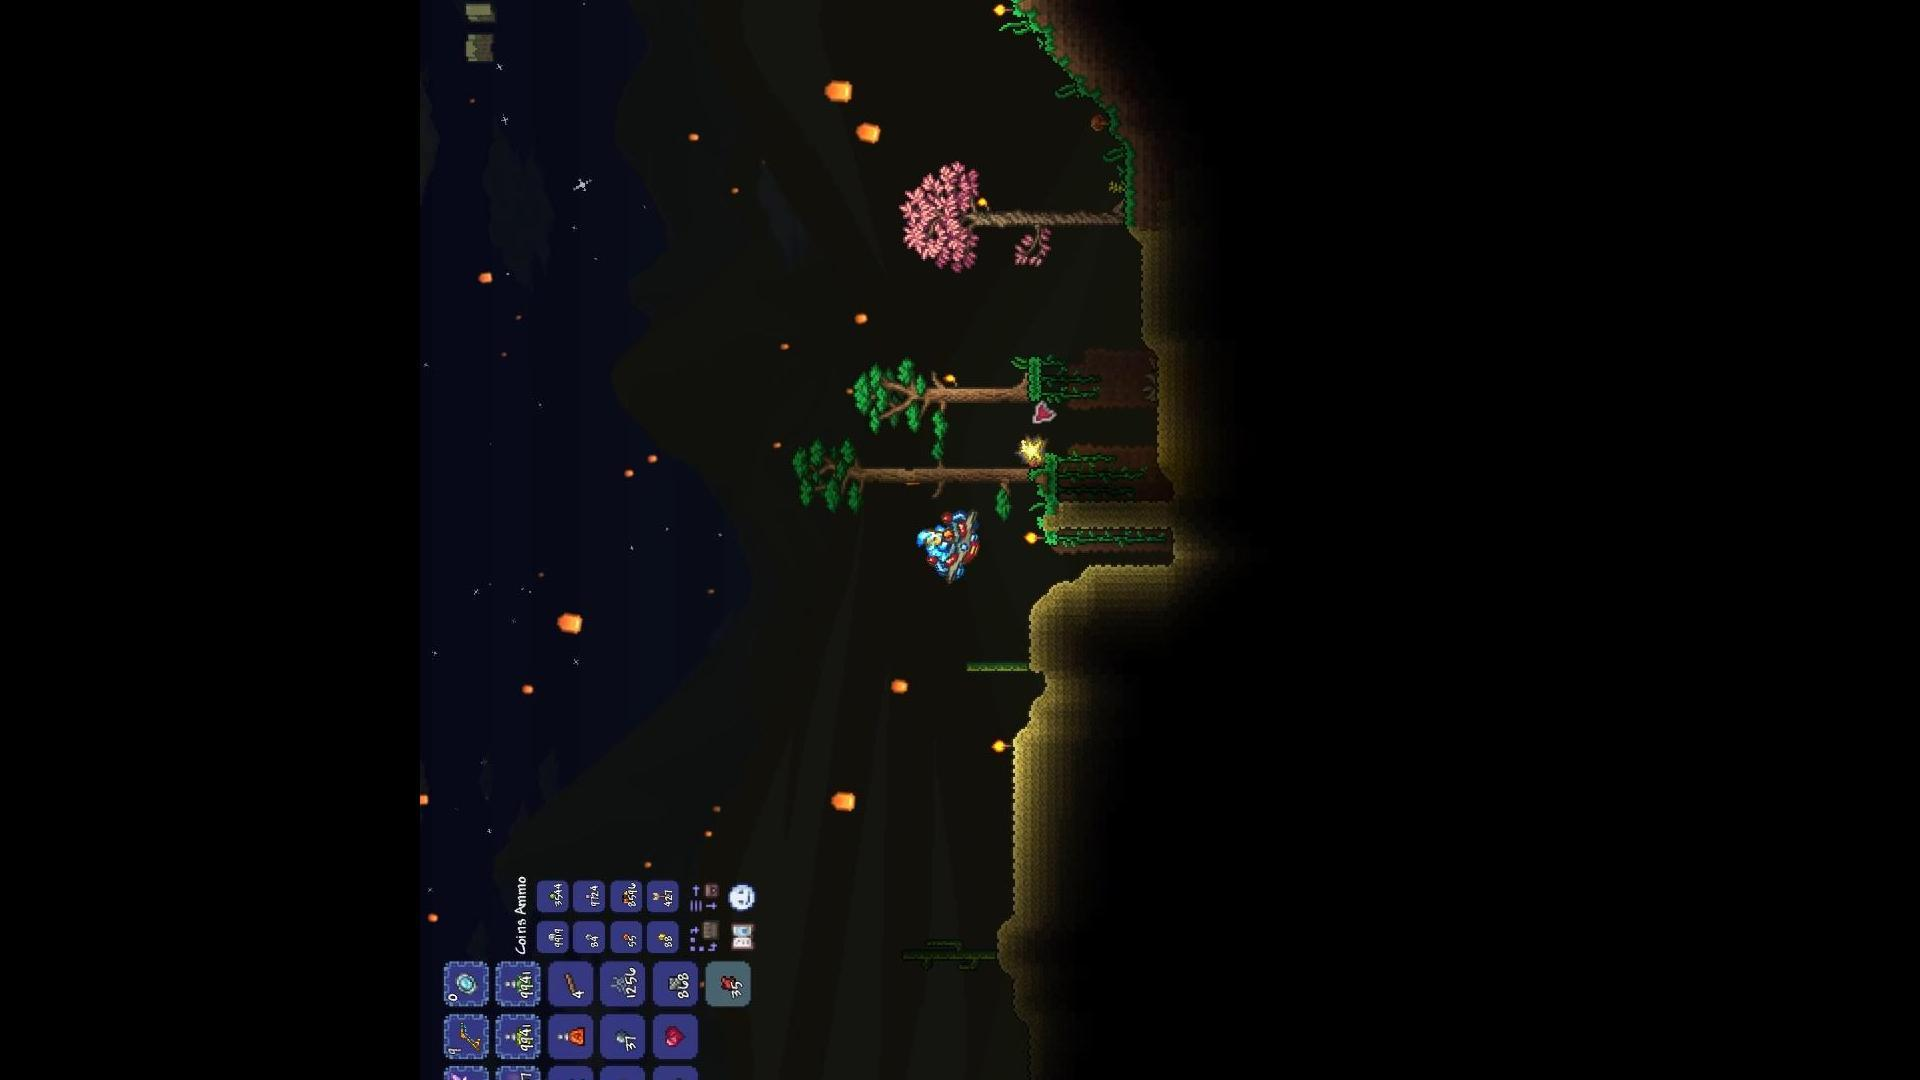lifeC: (661, 1021, 690, 1046)
star: (1017, 436, 1047, 465)
